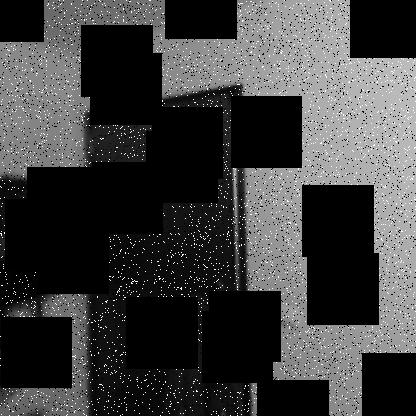Porte: (80, 82, 259, 415)
